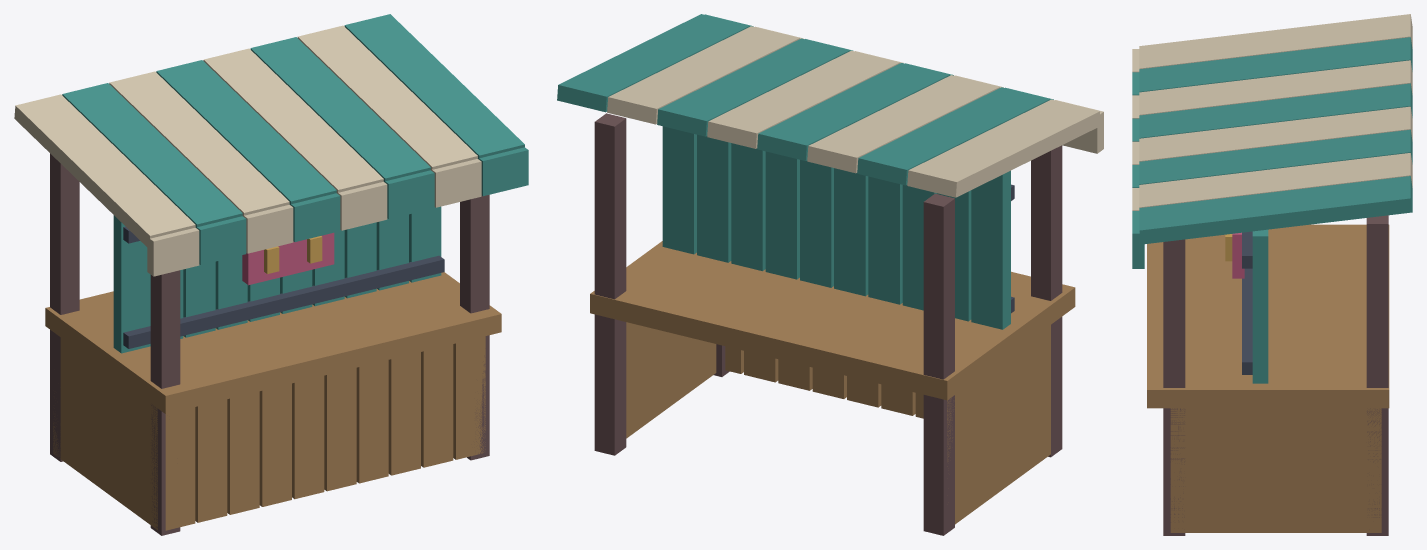
File: closed_stall.glb
3 renders of one model, left to right at view 1: azimuth 30°, elevation 25°; view 2: azimuth 150°, elevation 25°; view 3: azimuth 270°, elevation 25°, orthographic. The views are drawn at different scales.
Parts seen in each view (by area): view 1: Closed_stall_counter, Closed_stall_side, Closed_stall_canopy_stripe, Closed_stall_canopy_stripe.003, Closed_stall_canopy_stripe.001, Closed_stall_canopy_stripe.002, Closed_stall_canopy_stripe.005, Closed_stall_canopy_stripe.004, Closed_stall_canopy_stripe.006, Closed_stall_canopy_stripe.007, Closed_stall_timber_post.001, Closed_stall_shutter_strap (+30 smaller); view 2: Closed_stall_counter, Closed_stall_side, Closed_stall_timber_post.003, Closed_stall_timber_post.001, Closed_stall_canopy_stripe, Closed_stall_side.001, Closed_stall_timber_post, Closed_stall_canopy_stripe.001, Closed_stall_canopy_stripe.003, Closed_stall_canopy_stripe.006, Closed_stall_canopy_stripe.005, Closed_stall_canopy_stripe.007 (+18 smaller); view 3: Closed_stall_counter, Closed_stall_side.001, Closed_stall_canopy_stripe.007, Closed_stall_canopy_stripe.001, Closed_stall_canopy_stripe.003, Closed_stall_canopy_stripe.004, Closed_stall_canopy_stripe.005, Closed_stall_canopy_stripe.006, Closed_stall_canopy_stripe.002, Closed_stall_canopy_stripe, Closed_stall_timber_post.003, Closed_stall_timber_post.002 (+5 smaller).
Part boxes in pixels (x1=…): Closed_stall_counter: x1=45, y1=272, x2=501, y2=413; Closed_stall_side: x1=53, y1=337, x2=157, y2=529; Closed_stall_canopy_stripe: x1=14, y1=94, x2=195, y2=248; Closed_stall_canopy_stripe.003: x1=156, y1=60, x2=336, y2=205; Closed_stall_canopy_stripe.001: x1=62, y1=83, x2=242, y2=227; Closed_stall_canopy_stripe.002: x1=109, y1=71, x2=289, y2=215; Closed_stall_canopy_stripe.005: x1=250, y1=37, x2=430, y2=182; Closed_stall_canopy_stripe.004: x1=203, y1=48, x2=383, y2=193; Closed_stall_canopy_stripe.006: x1=297, y1=25, x2=477, y2=170; Closed_stall_canopy_stripe.007: x1=344, y1=14, x2=524, y2=158; Closed_stall_timber_post.001: x1=50, y1=153, x2=79, y2=461; Closed_stall_shutter_strap: x1=123, y1=255, x2=444, y2=348; Closed_stall_counter: x1=590, y1=241, x2=1075, y2=400; Closed_stall_side: x1=947, y1=325, x2=1050, y2=524; Closed_stall_timber_post.003: x1=594, y1=113, x2=626, y2=455; Closed_stall_timber_post.001: x1=923, y1=193, x2=954, y2=535; Closed_stall_canopy_stripe: x1=907, y1=99, x2=1099, y2=197; Closed_stall_side.001: x1=626, y1=322, x2=716, y2=438; Closed_stall_timber_post: x1=1031, y1=145, x2=1062, y2=457; Closed_stall_canopy_stripe.001: x1=857, y1=87, x2=1049, y2=185; Closed_stall_canopy_stripe.003: x1=757, y1=63, x2=949, y2=160; Closed_stall_canopy_stripe.006: x1=607, y1=26, x2=799, y2=124; Closed_stall_canopy_stripe.005: x1=657, y1=38, x2=849, y2=136; Closed_stall_canopy_stripe.007: x1=557, y1=14, x2=749, y2=112; Closed_stall_counter: x1=1147, y1=224, x2=1389, y2=408; Closed_stall_side.001: x1=1170, y1=408, x2=1381, y2=532; Closed_stall_canopy_stripe.007: x1=1139, y1=176, x2=1412, y2=244; Closed_stall_canopy_stripe.001: x1=1139, y1=37, x2=1412, y2=92; Closed_stall_canopy_stripe.003: x1=1139, y1=83, x2=1412, y2=138; Closed_stall_canopy_stripe.004: x1=1139, y1=106, x2=1412, y2=161; Closed_stall_canopy_stripe.005: x1=1139, y1=129, x2=1412, y2=184; Closed_stall_canopy_stripe.006: x1=1139, y1=153, x2=1412, y2=207; Closed_stall_canopy_stripe.002: x1=1139, y1=60, x2=1412, y2=115; Closed_stall_canopy_stripe: x1=1139, y1=14, x2=1412, y2=69; Closed_stall_timber_post.003: x1=1366, y1=215, x2=1388, y2=535; Closed_stall_timber_post.002: x1=1163, y1=239, x2=1185, y2=535.
Bounding box in the file's own units: 2.79 × 2.46 × 1.79.
